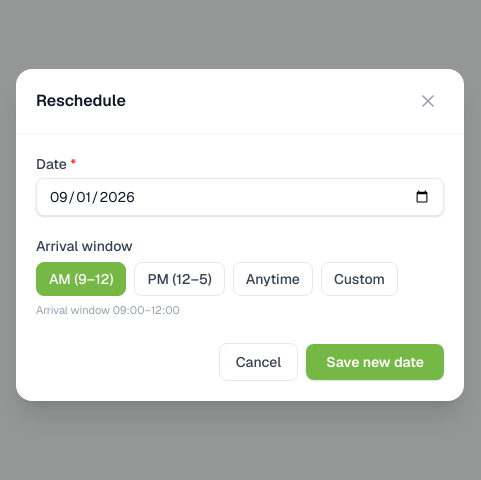
Test: RescheduleJobModal — failure is visible › renders a failure message when the local Dexie write throws
Click the button "Save new date".
click(375, 362)  # box [306,344,444,380]
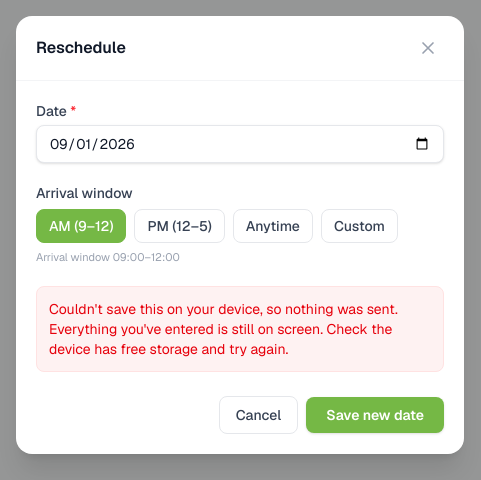
Expected: the message shows "Couldn't save", [49,300,398,358]
